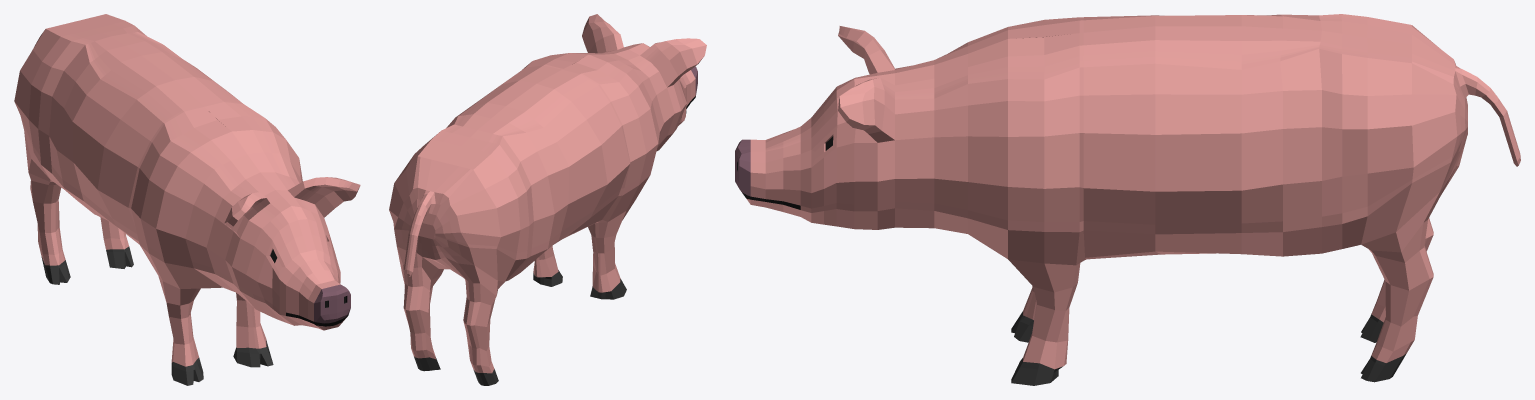
Rendered from pig.glb.
3 views of the same model, side by side, from view 1: azimuth 30°, elevation 25°; view 2: azimuth 150°, elevation 25°; view 3: azimuth 270°, elevation 25° (orthographic). The views are drawn at different scales.
Visible parts, largest first — view 1: Pig_3; view 2: Pig_3; view 3: Pig_3.
Boxes of the visible parts, x1,y1,x2,y2 form: Pig_3: (14, 14, 360, 385); Pig_3: (389, 14, 706, 385); Pig_3: (735, 14, 1520, 385).
Bounding box in the file's own units: 4.15 × 6.58 × 14.19.
